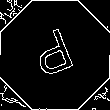P_S: (28, 25, 82, 85)
